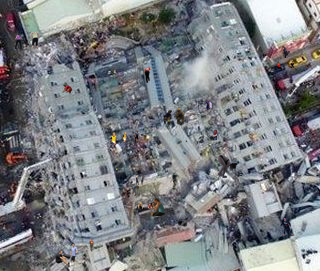Human: (55, 243, 78, 265), (279, 218, 305, 237), (11, 32, 40, 49), (138, 198, 165, 216), (217, 155, 238, 178), (110, 131, 138, 148), (163, 108, 185, 125), (276, 61, 312, 71), (62, 82, 81, 94), (177, 212, 188, 227), (202, 130, 217, 140), (143, 67, 152, 83), (172, 173, 178, 190), (130, 185, 139, 196), (204, 98, 212, 110), (135, 175, 144, 185), (283, 47, 290, 58), (89, 238, 94, 252), (3, 136, 13, 143), (311, 80, 316, 89), (180, 140, 188, 143), (234, 145, 237, 151), (168, 96, 171, 100), (116, 168, 118, 172), (309, 212, 312, 214), (64, 222, 65, 225), (269, 182, 270, 184)
